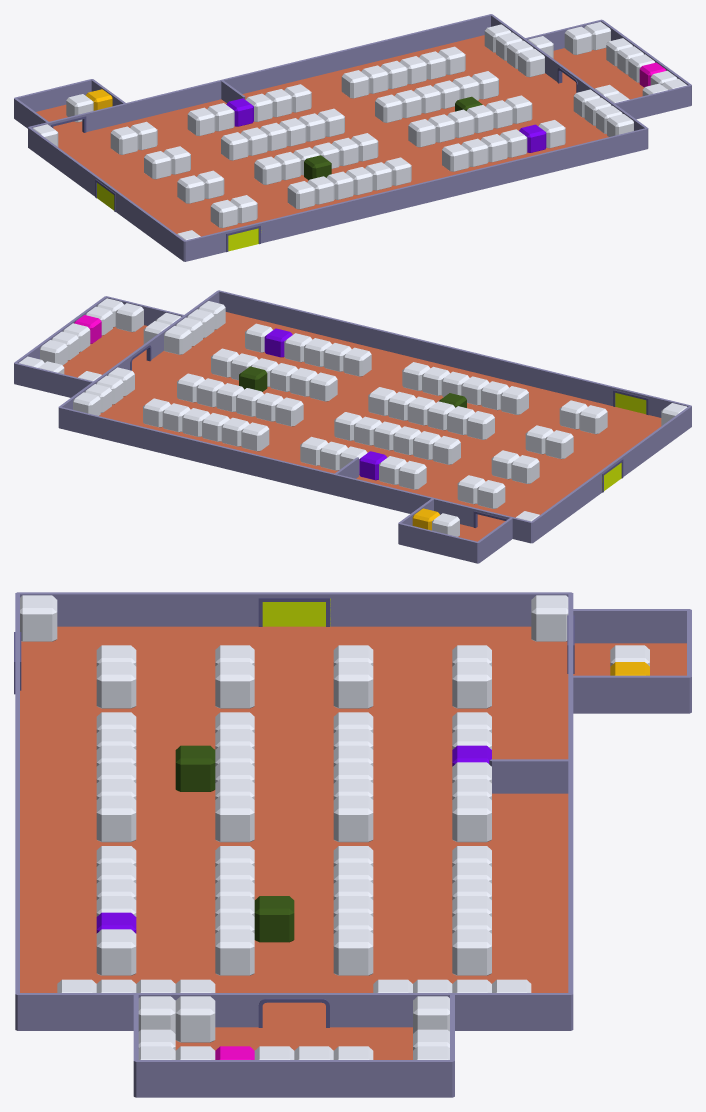
Rendered from Store.dae.
3 renders of one model, top to bottom at view 1: azimuth 30°, elevation 25°; view 2: azimuth 150°, elevation 25°; view 3: azimuth 270°, elevation 25°, orthographic. The views are drawn at different scales.
Visible parts, largest first — view 1: block_bevel (×71), porch_floorCenter (×3), wall (×43); view 2: block_bevel (×60), porch_floorCenter (×2), wall (×34); view 3: porch_floorCenter (×3), wall (×36), block_bevel (×19).
Boxes of the visible parts, bbox=[...] form: block_bevel (×71): bbox=[66, 22, 654, 228]; porch_floorCenter (×3): bbox=[36, 35, 643, 236]; wall (×43): bbox=[33, 18, 691, 261]; block_bevel (×60): bbox=[40, 303, 607, 536]; porch_floorCenter (×2): bbox=[63, 312, 661, 530]; wall (×34): bbox=[14, 295, 646, 563]; porch_floorCenter (×3): bbox=[20, 626, 686, 1059]; wall (×36): bbox=[15, 592, 691, 1097]; block_bevel (×19): bbox=[20, 595, 568, 1042].
Size of the model in its own units: 28.16 by 1 by 17.16.
